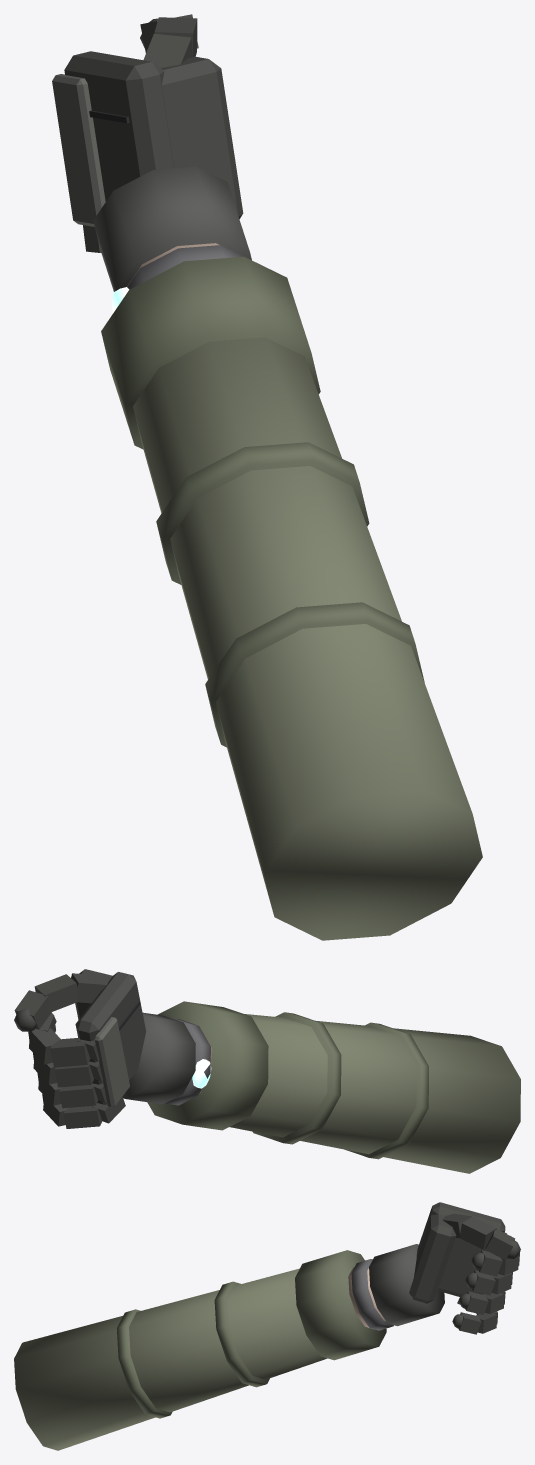
File: hand_l.glb
3 views of the same model, one above another, from view 1: azimuth 30°, elevation 25°; view 2: azimuth 150°, elevation 25°; view 3: azimuth 270°, elevation 25° (orthographic). The views are drawn at different scales.
Parts seen in each view (by area): view 1: Hand_l; view 2: Hand_l; view 3: Hand_l.
Boxes of the visible parts, x1,y1,x2,y2 form: Hand_l: (52, 14, 482, 940); Hand_l: (14, 969, 520, 1173); Hand_l: (14, 1202, 520, 1450).
Size of the model in its own units: 0.2102 by 0.3026 by 0.4973.
